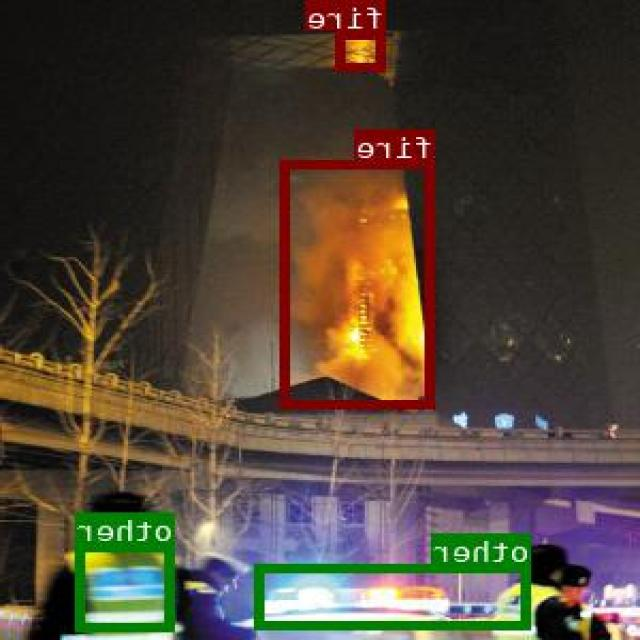fire: (284, 160, 437, 406), (337, 29, 387, 69)
other: (256, 564, 532, 628), (78, 542, 176, 629)
